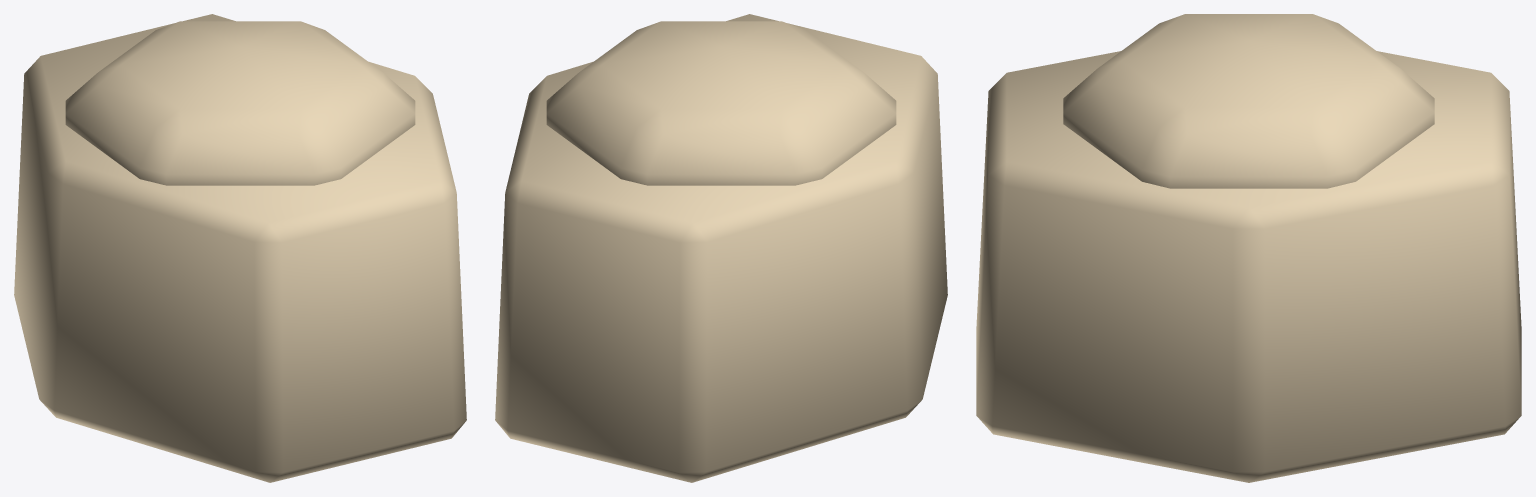
The model's file is pod_main_tidemark.glb.
3 renders of one model, left to right at view 1: azimuth 30°, elevation 25°; view 2: azimuth 150°, elevation 25°; view 3: azimuth 270°, elevation 25°, orthographic. The views are drawn at different scales.
Parts seen in each view (by area): view 1: pod_main_tidemark; view 2: pod_main_tidemark; view 3: pod_main_tidemark.
Part boxes in pixels (x1,y1,x2,y2): pod_main_tidemark: (14, 14, 466, 482); pod_main_tidemark: (495, 14, 947, 482); pod_main_tidemark: (976, 14, 1521, 482).
Bounding box in the file's own units: 3.39 × 2.72 × 3.89.
